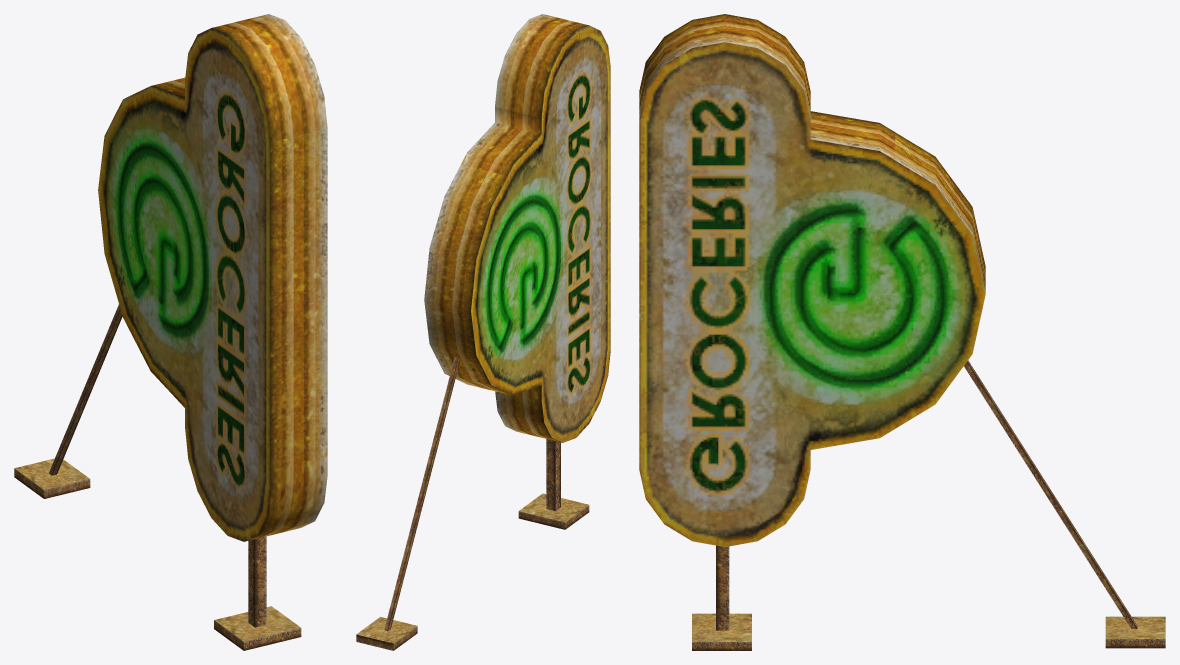
The model's file is grocery_sign1.fbx.
3 views of the same model, side by side, from view 1: azimuth 30°, elevation 25°; view 2: azimuth 150°, elevation 25°; view 3: azimuth 270°, elevation 25° (orthographic). The views are drawn at different scales.
Visible parts, largest first — view 1: mesh_0; view 2: mesh_0; view 3: mesh_0.
Boxes of the visible parts, x1,y1,x2,y2 form: mesh_0: (14, 14, 327, 650); mesh_0: (356, 14, 610, 650); mesh_0: (639, 14, 1165, 650).
Bounding box in the file's own units: 40 × 402 × 315.
1 material, 1 textured.
